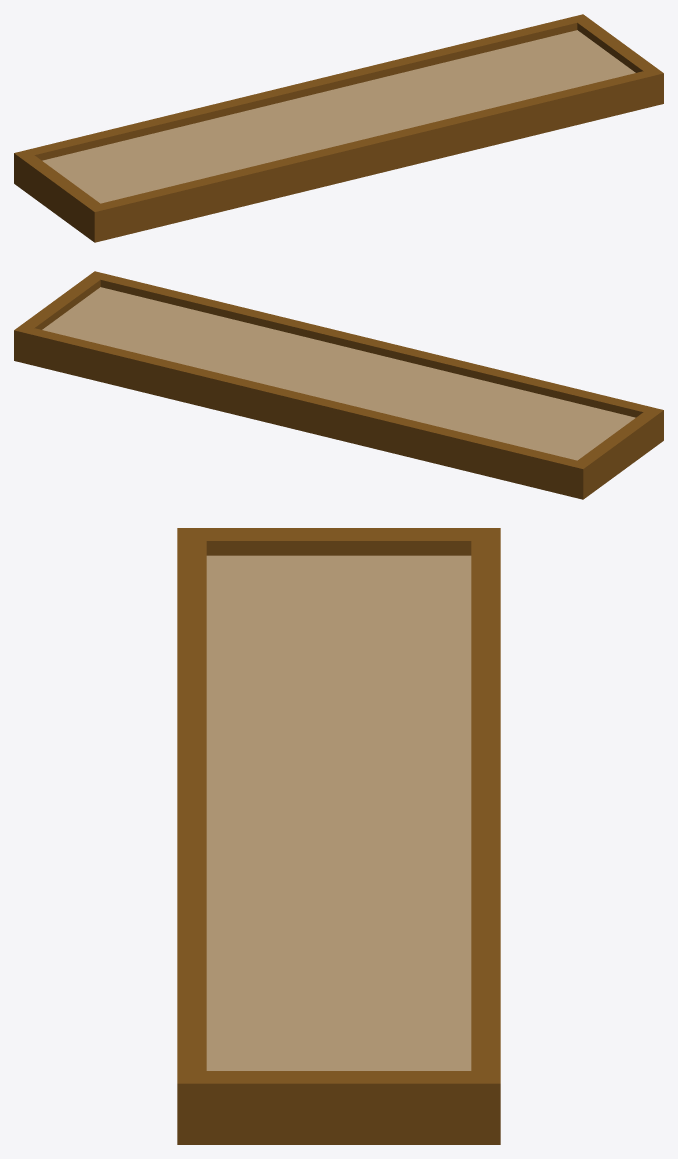
The model's file is NoDirectionMarker.fbx.
3 views of the same model, one above another, from view 1: azimuth 30°, elevation 25°; view 2: azimuth 150°, elevation 25°; view 3: azimuth 270°, elevation 25° (orthographic). The views are drawn at different scales.
Visible parts, largest first — view 1: Marker; view 2: Marker; view 3: Marker.
Part boxes in pixels (box(x1,y1,x2,y2)): Marker: box(14, 14, 663, 242); Marker: box(14, 271, 663, 499); Marker: box(177, 528, 500, 1144).
Bounding box in the file's own units: 1017 × 52.24 × 250.
